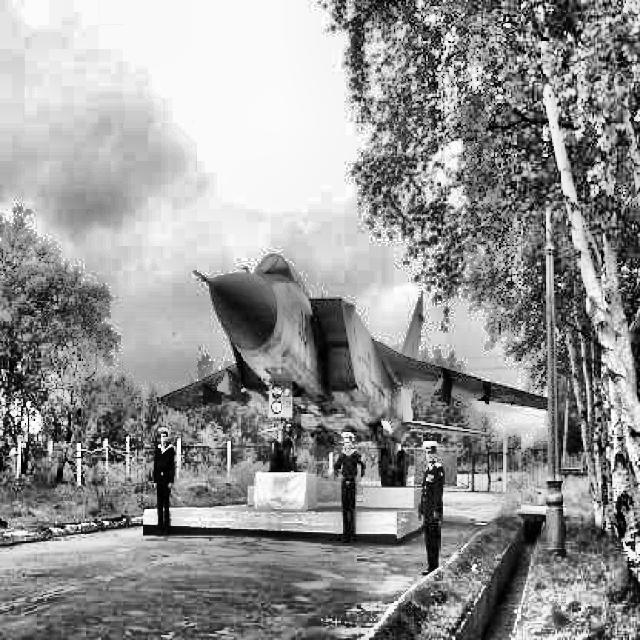Mig31: (152, 254, 548, 486)
